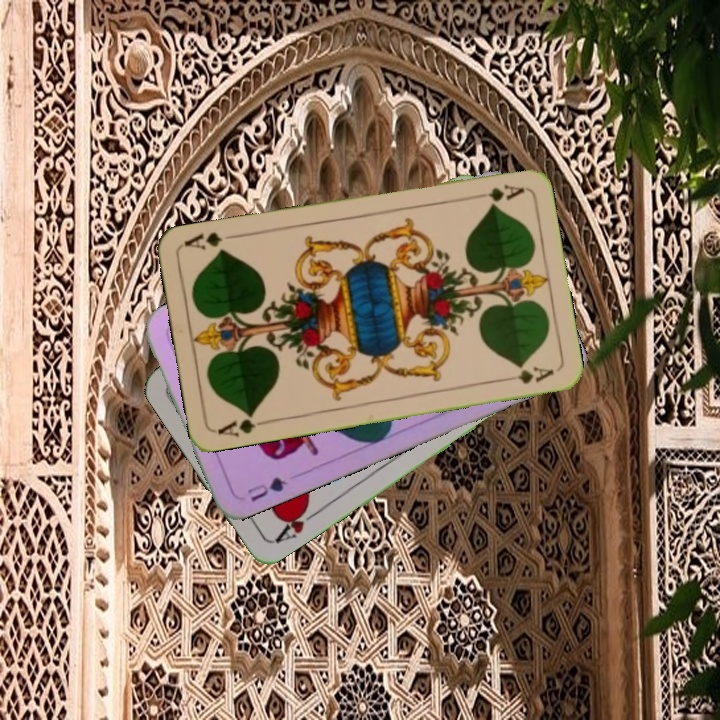GA: (213, 408, 272, 439), (467, 180, 526, 206)
GU: (243, 472, 290, 505)
HA: (271, 500, 322, 547)
